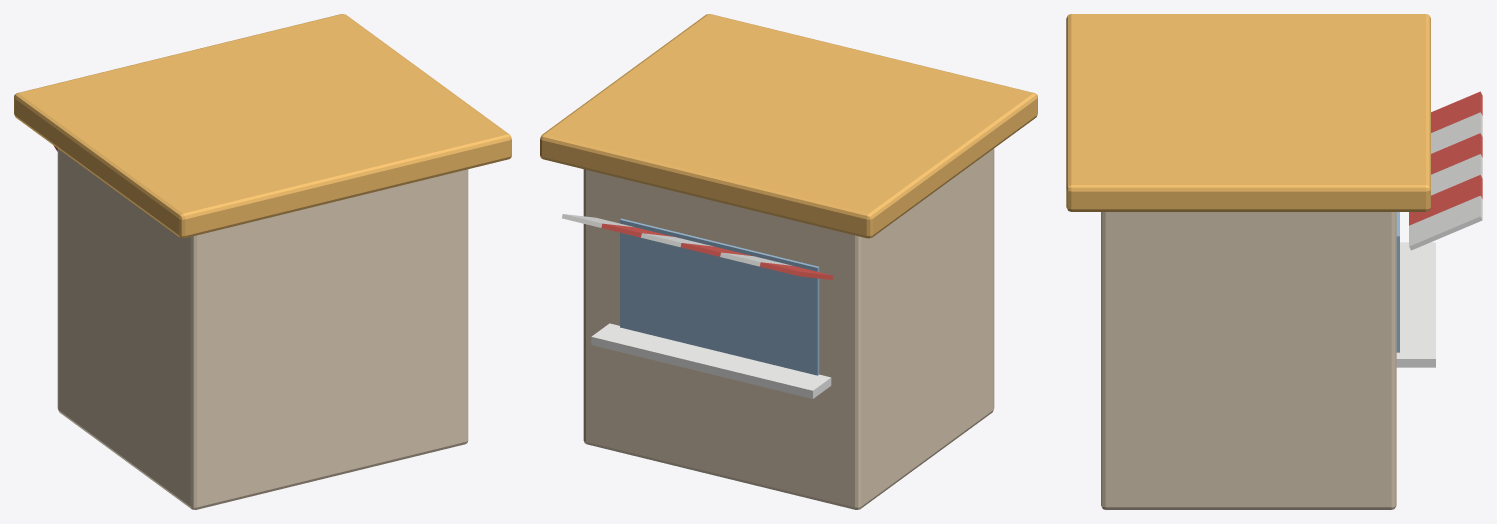
The model's file is Kiosk.fbx.
The picture shows the model from 3 angles, left to right: view 1: azimuth 30°, elevation 25°; view 2: azimuth 150°, elevation 25°; view 3: azimuth 270°, elevation 25°; orthographic projection. The views are drawn at different scales.
Visible parts, largest first — view 1: Wall, Trim.002; view 2: Wall, Trim.002, Glass.001, White.001, Accent.002; view 3: Wall, Trim.002, White.001, Accent.002, Glass.001.
Boxes of the visible parts, bbox=[...] form: Wall: bbox=[57, 148, 468, 509]; Trim.002: bbox=[14, 14, 511, 238]; Wall: bbox=[583, 148, 994, 509]; Trim.002: bbox=[540, 14, 1037, 238]; Glass.001: bbox=[620, 218, 819, 375]; White.001: bbox=[562, 214, 831, 398]; Accent.002: bbox=[601, 223, 833, 279]; Wall: bbox=[1101, 212, 1396, 509]; Trim.002: bbox=[1066, 14, 1430, 211]; White.001: bbox=[1396, 112, 1482, 367]; Accent.002: bbox=[1409, 91, 1482, 225]; Glass.001: bbox=[1396, 212, 1399, 352].
Size of the model in its own units: 840 by 760 by 845.
